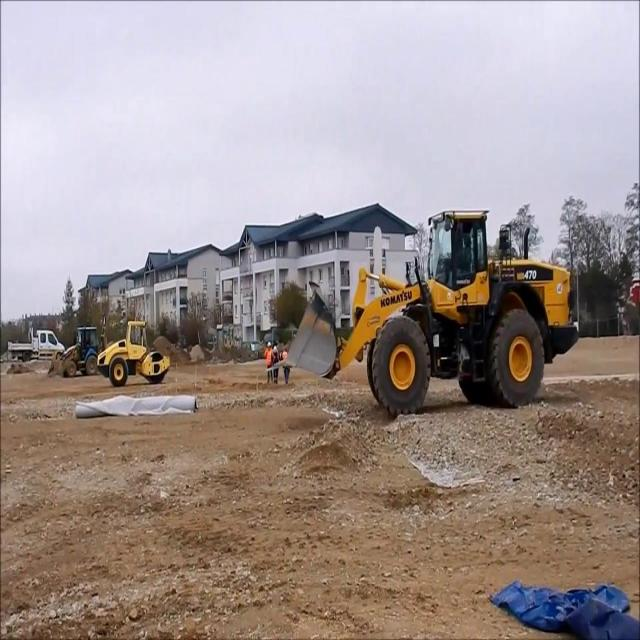Loader: (278, 210, 580, 410), (49, 326, 94, 374)
Roller: (96, 321, 168, 384)
